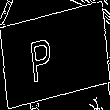P_N: (42, 27, 68, 83)
